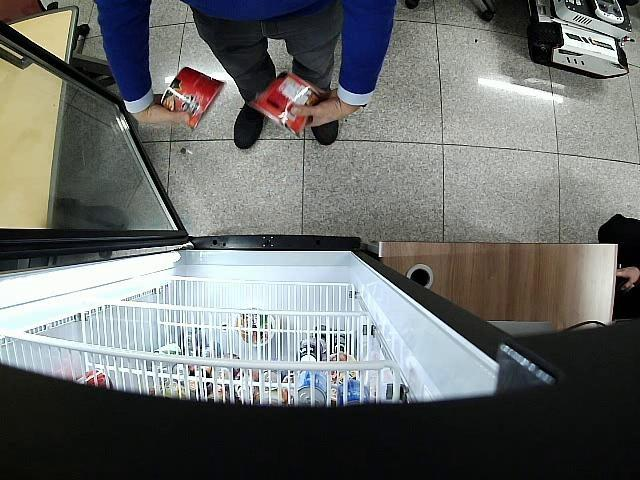01_ShinRamen_L: (248, 70, 322, 138), (160, 66, 226, 132)
